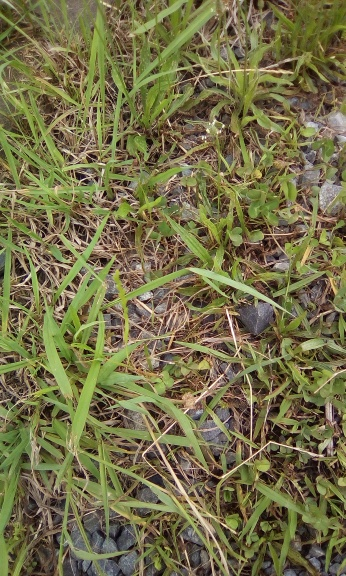4leaf: (149, 370, 175, 396), (177, 355, 199, 376)
